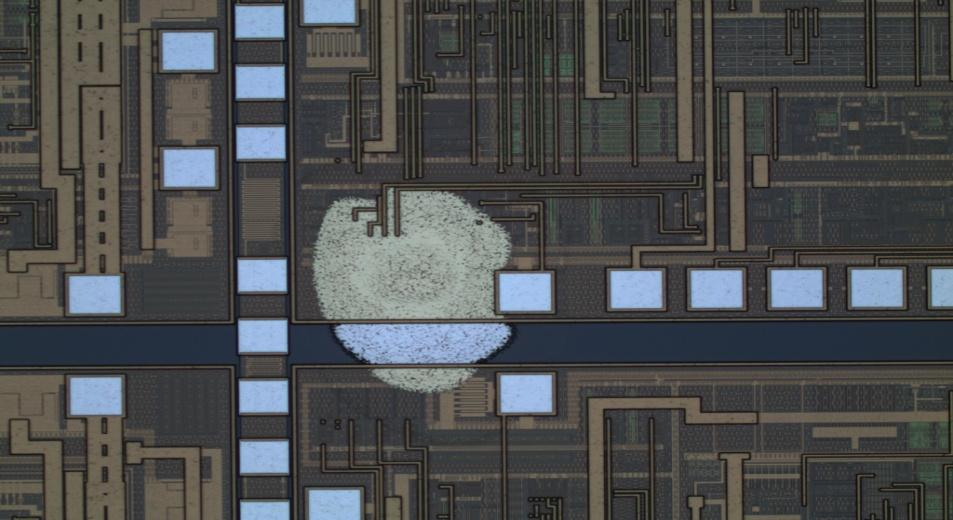BLOCK ETCH: (307, 183, 522, 403)
